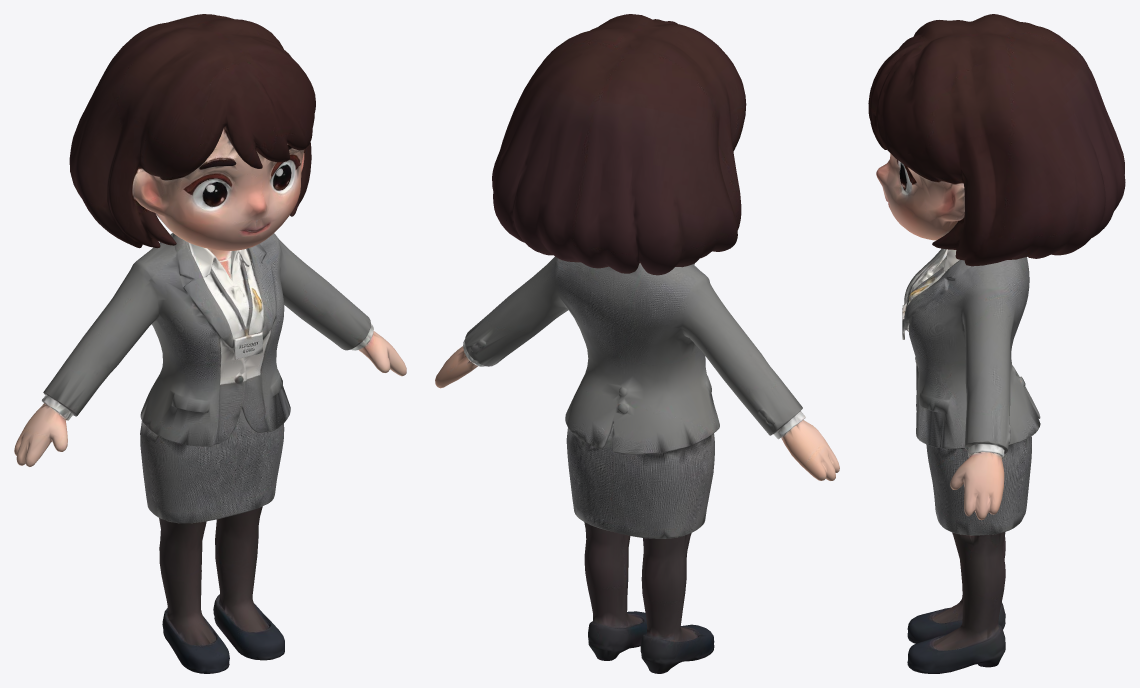
The model's file is char_yeoja_gajang_base.glb.
3 views of the same model, side by side, from view 1: azimuth 30°, elevation 25°; view 2: azimuth 150°, elevation 25°; view 3: azimuth 270°, elevation 25° (orthographic). The views are drawn at different scales.
Size of the model in its own units: 0.9277 by 1.4 by 0.5253.
1 material, 1 textured.
